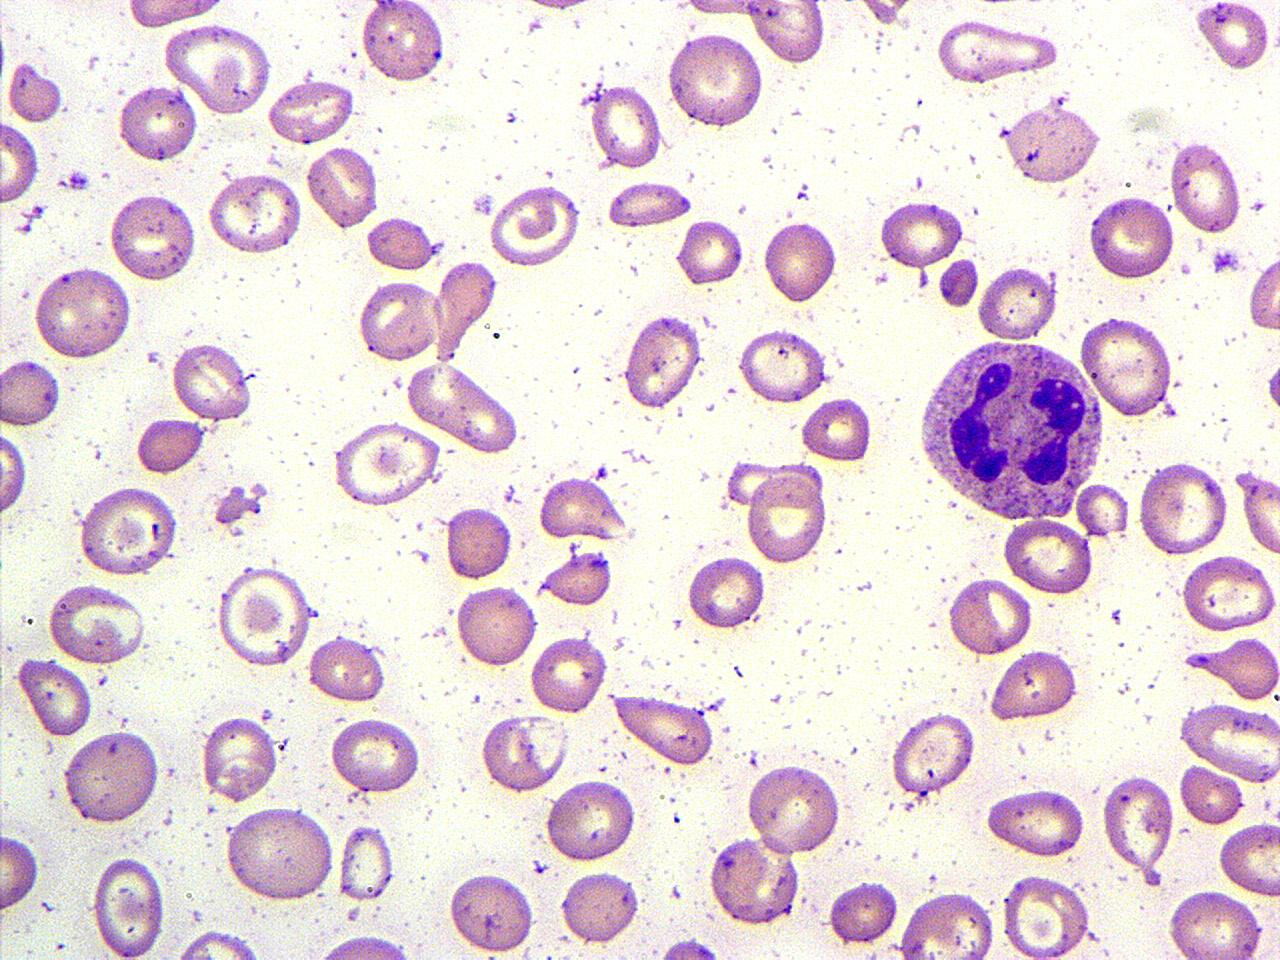Platelets: (1210, 245, 1242, 276), (1264, 360, 1280, 415), (1183, 649, 1219, 670), (67, 168, 91, 192), (472, 191, 494, 216), (248, 481, 270, 498), (524, 15, 544, 33), (12, 219, 33, 234), (27, 204, 47, 219), (146, 349, 162, 365), (798, 179, 812, 198), (502, 484, 516, 501), (595, 464, 609, 480), (1110, 608, 1122, 626), (86, 53, 98, 70), (504, 109, 516, 124)
RBC: (223, 803, 337, 904), (161, 21, 274, 116), (330, 418, 443, 511), (216, 564, 314, 670), (665, 29, 765, 130), (61, 728, 161, 828), (78, 483, 181, 579), (1079, 313, 1173, 418), (32, 264, 134, 361), (1136, 457, 1232, 558), (746, 761, 844, 857), (932, 15, 1061, 87), (206, 168, 306, 258), (46, 580, 148, 668), (1003, 100, 1105, 187), (706, 834, 800, 926), (544, 775, 638, 866), (999, 870, 1093, 960), (109, 190, 198, 284), (488, 184, 584, 271), (1178, 701, 1280, 783), (92, 854, 168, 960), (1180, 552, 1278, 634), (622, 312, 703, 410), (610, 693, 718, 767), (1087, 193, 1175, 282), (746, 471, 828, 566), (328, 713, 422, 796), (447, 869, 536, 956), (890, 708, 976, 798), (479, 712, 570, 796), (354, 277, 440, 365), (1101, 770, 1175, 872), (1002, 515, 1095, 597), (984, 786, 1086, 859), (736, 326, 830, 405), (360, 0, 446, 87), (1169, 138, 1245, 237), (454, 582, 538, 670), (1166, 886, 1266, 960), (947, 574, 1034, 658), (986, 647, 1080, 723), (200, 713, 278, 804), (116, 80, 199, 164), (762, 217, 839, 308), (898, 890, 998, 960), (170, 340, 254, 422), (528, 631, 609, 716), (305, 142, 380, 231), (17, 653, 94, 739), (590, 83, 662, 172), (686, 552, 766, 632), (976, 264, 1058, 342), (265, 77, 357, 145), (558, 868, 639, 946), (536, 474, 626, 542), (878, 198, 964, 268), (1194, 0, 1274, 73), (306, 634, 386, 706), (445, 381, 520, 456), (748, 0, 828, 68), (799, 394, 874, 466), (404, 360, 480, 430), (445, 504, 512, 582), (675, 216, 746, 287), (336, 822, 396, 905), (1217, 820, 1279, 899), (538, 547, 615, 609), (828, 878, 898, 946), (604, 177, 692, 230), (437, 256, 499, 331), (1, 356, 62, 429), (1215, 632, 1279, 702), (366, 213, 437, 274), (1177, 762, 1243, 827), (162, 926, 282, 960), (4, 59, 65, 125), (136, 418, 204, 477), (0, 117, 42, 207), (1239, 468, 1279, 558), (1074, 478, 1132, 541), (0, 830, 41, 914), (308, 932, 424, 960), (124, 0, 225, 31), (0, 419, 29, 526), (1248, 253, 1280, 335), (938, 256, 981, 310), (855, 0, 916, 27)
WBC: (914, 333, 1107, 526), (1002, 98, 1105, 189), (710, 834, 800, 928), (622, 312, 703, 412), (360, 0, 447, 85)
